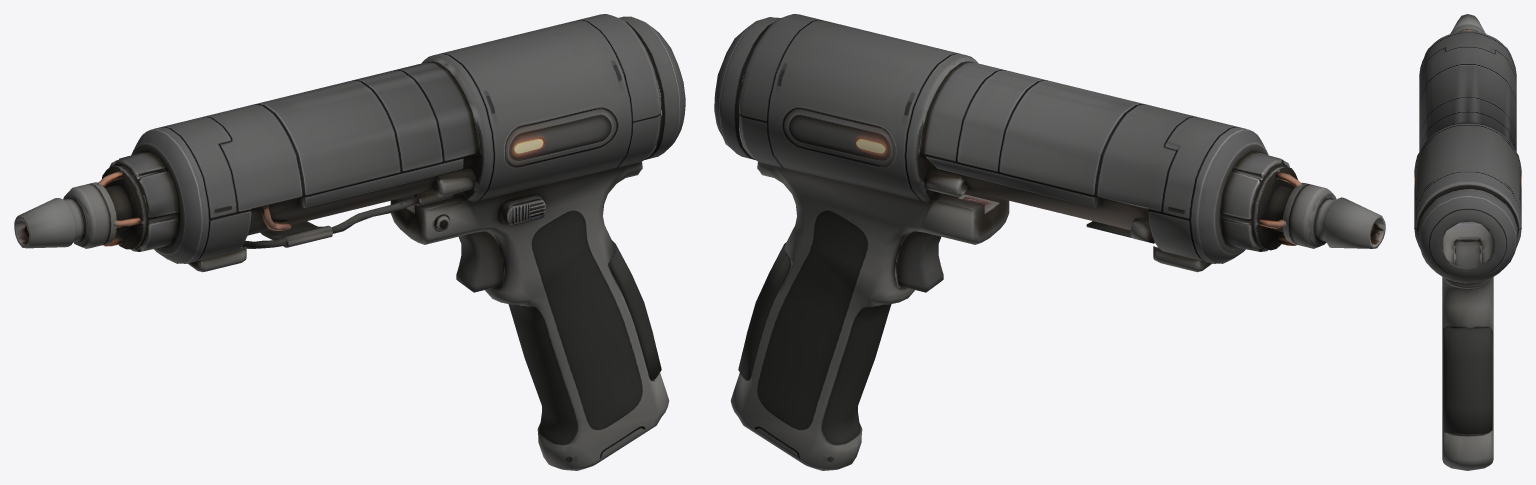
The model's file is repair_tool.glb.
3 renders of one model, left to right at view 1: azimuth 30°, elevation 25°; view 2: azimuth 150°, elevation 25°; view 3: azimuth 270°, elevation 25°, orthographic. The views are drawn at different scales.
Visible parts, largest first — view 1: repair_tool; view 2: repair_tool; view 3: repair_tool.
Boxes of the visible parts, x1,y1,x2,y2 form: repair_tool: [14, 14, 685, 470]; repair_tool: [714, 14, 1385, 470]; repair_tool: [1414, 14, 1521, 470].
Size of the model in its own units: 0.998 by 0.6426 by 0.209.
1 material, 1 textured.
